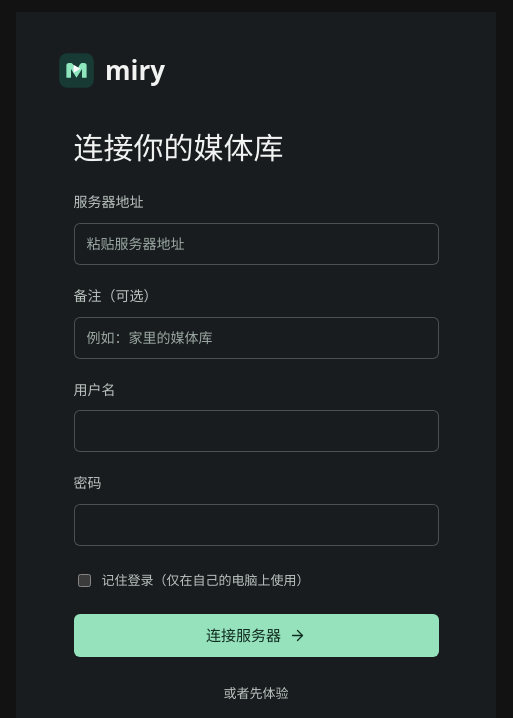
Test: does not send credentials after probe failure and labels login rejection separately
The image size is (513, 718).
Type "https://media.example.com:8443" into the field labelled "服务器地址" at (256, 244), box top-left (74, 223), bottom-right (438, 265)
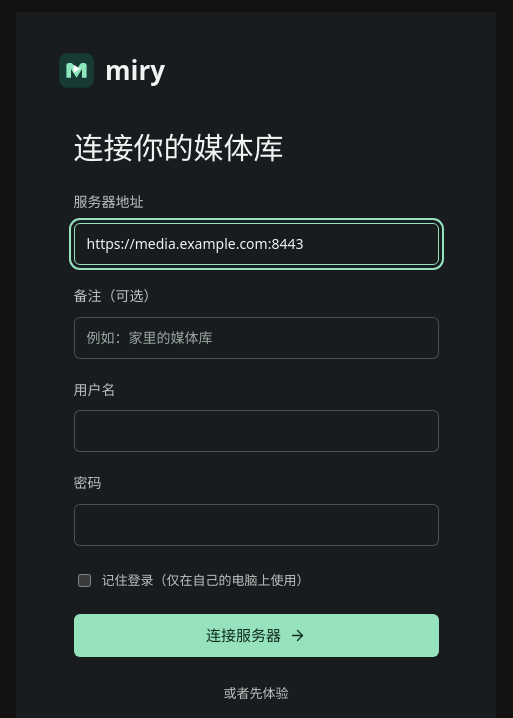
Type "Test" into the field labelled "用户名" at (256, 431), box top-left (74, 410), bottom-right (438, 452)
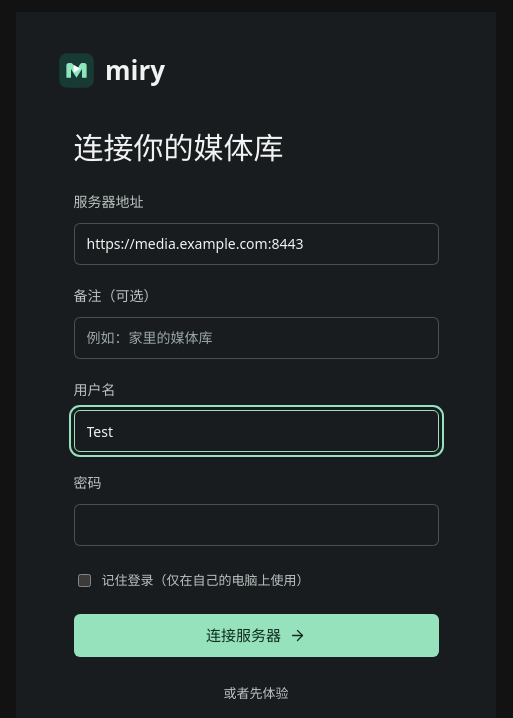
Click the button "连接服务器" at (256, 636), box top-left (74, 614), bottom-right (438, 658)
(page scrolled)
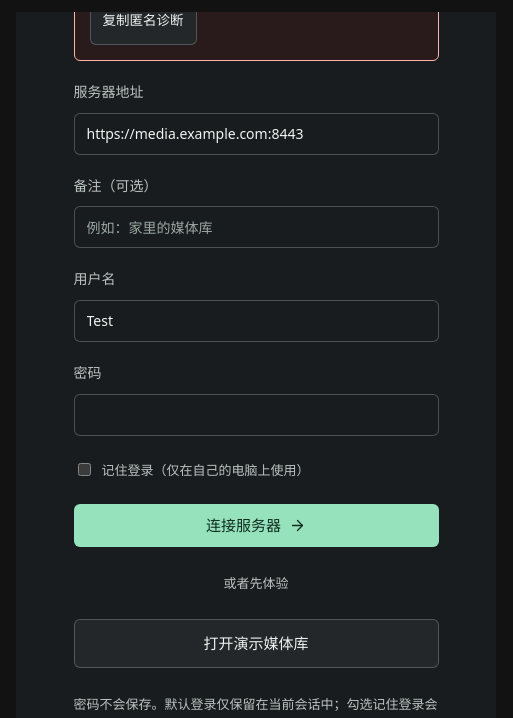
Click the button "连接服务器" at (256, 525), box top-left (74, 504), bottom-right (438, 547)
(page scrolled)
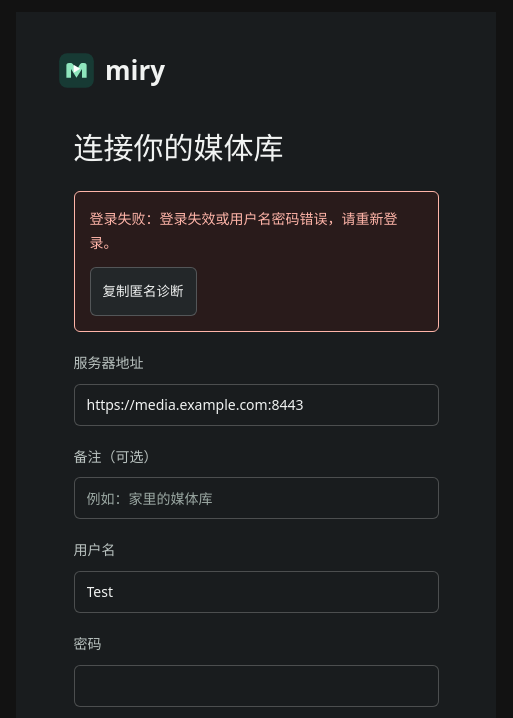
Check: the message shows "登录失败", box top-left (90, 209), bottom-right (398, 252)
